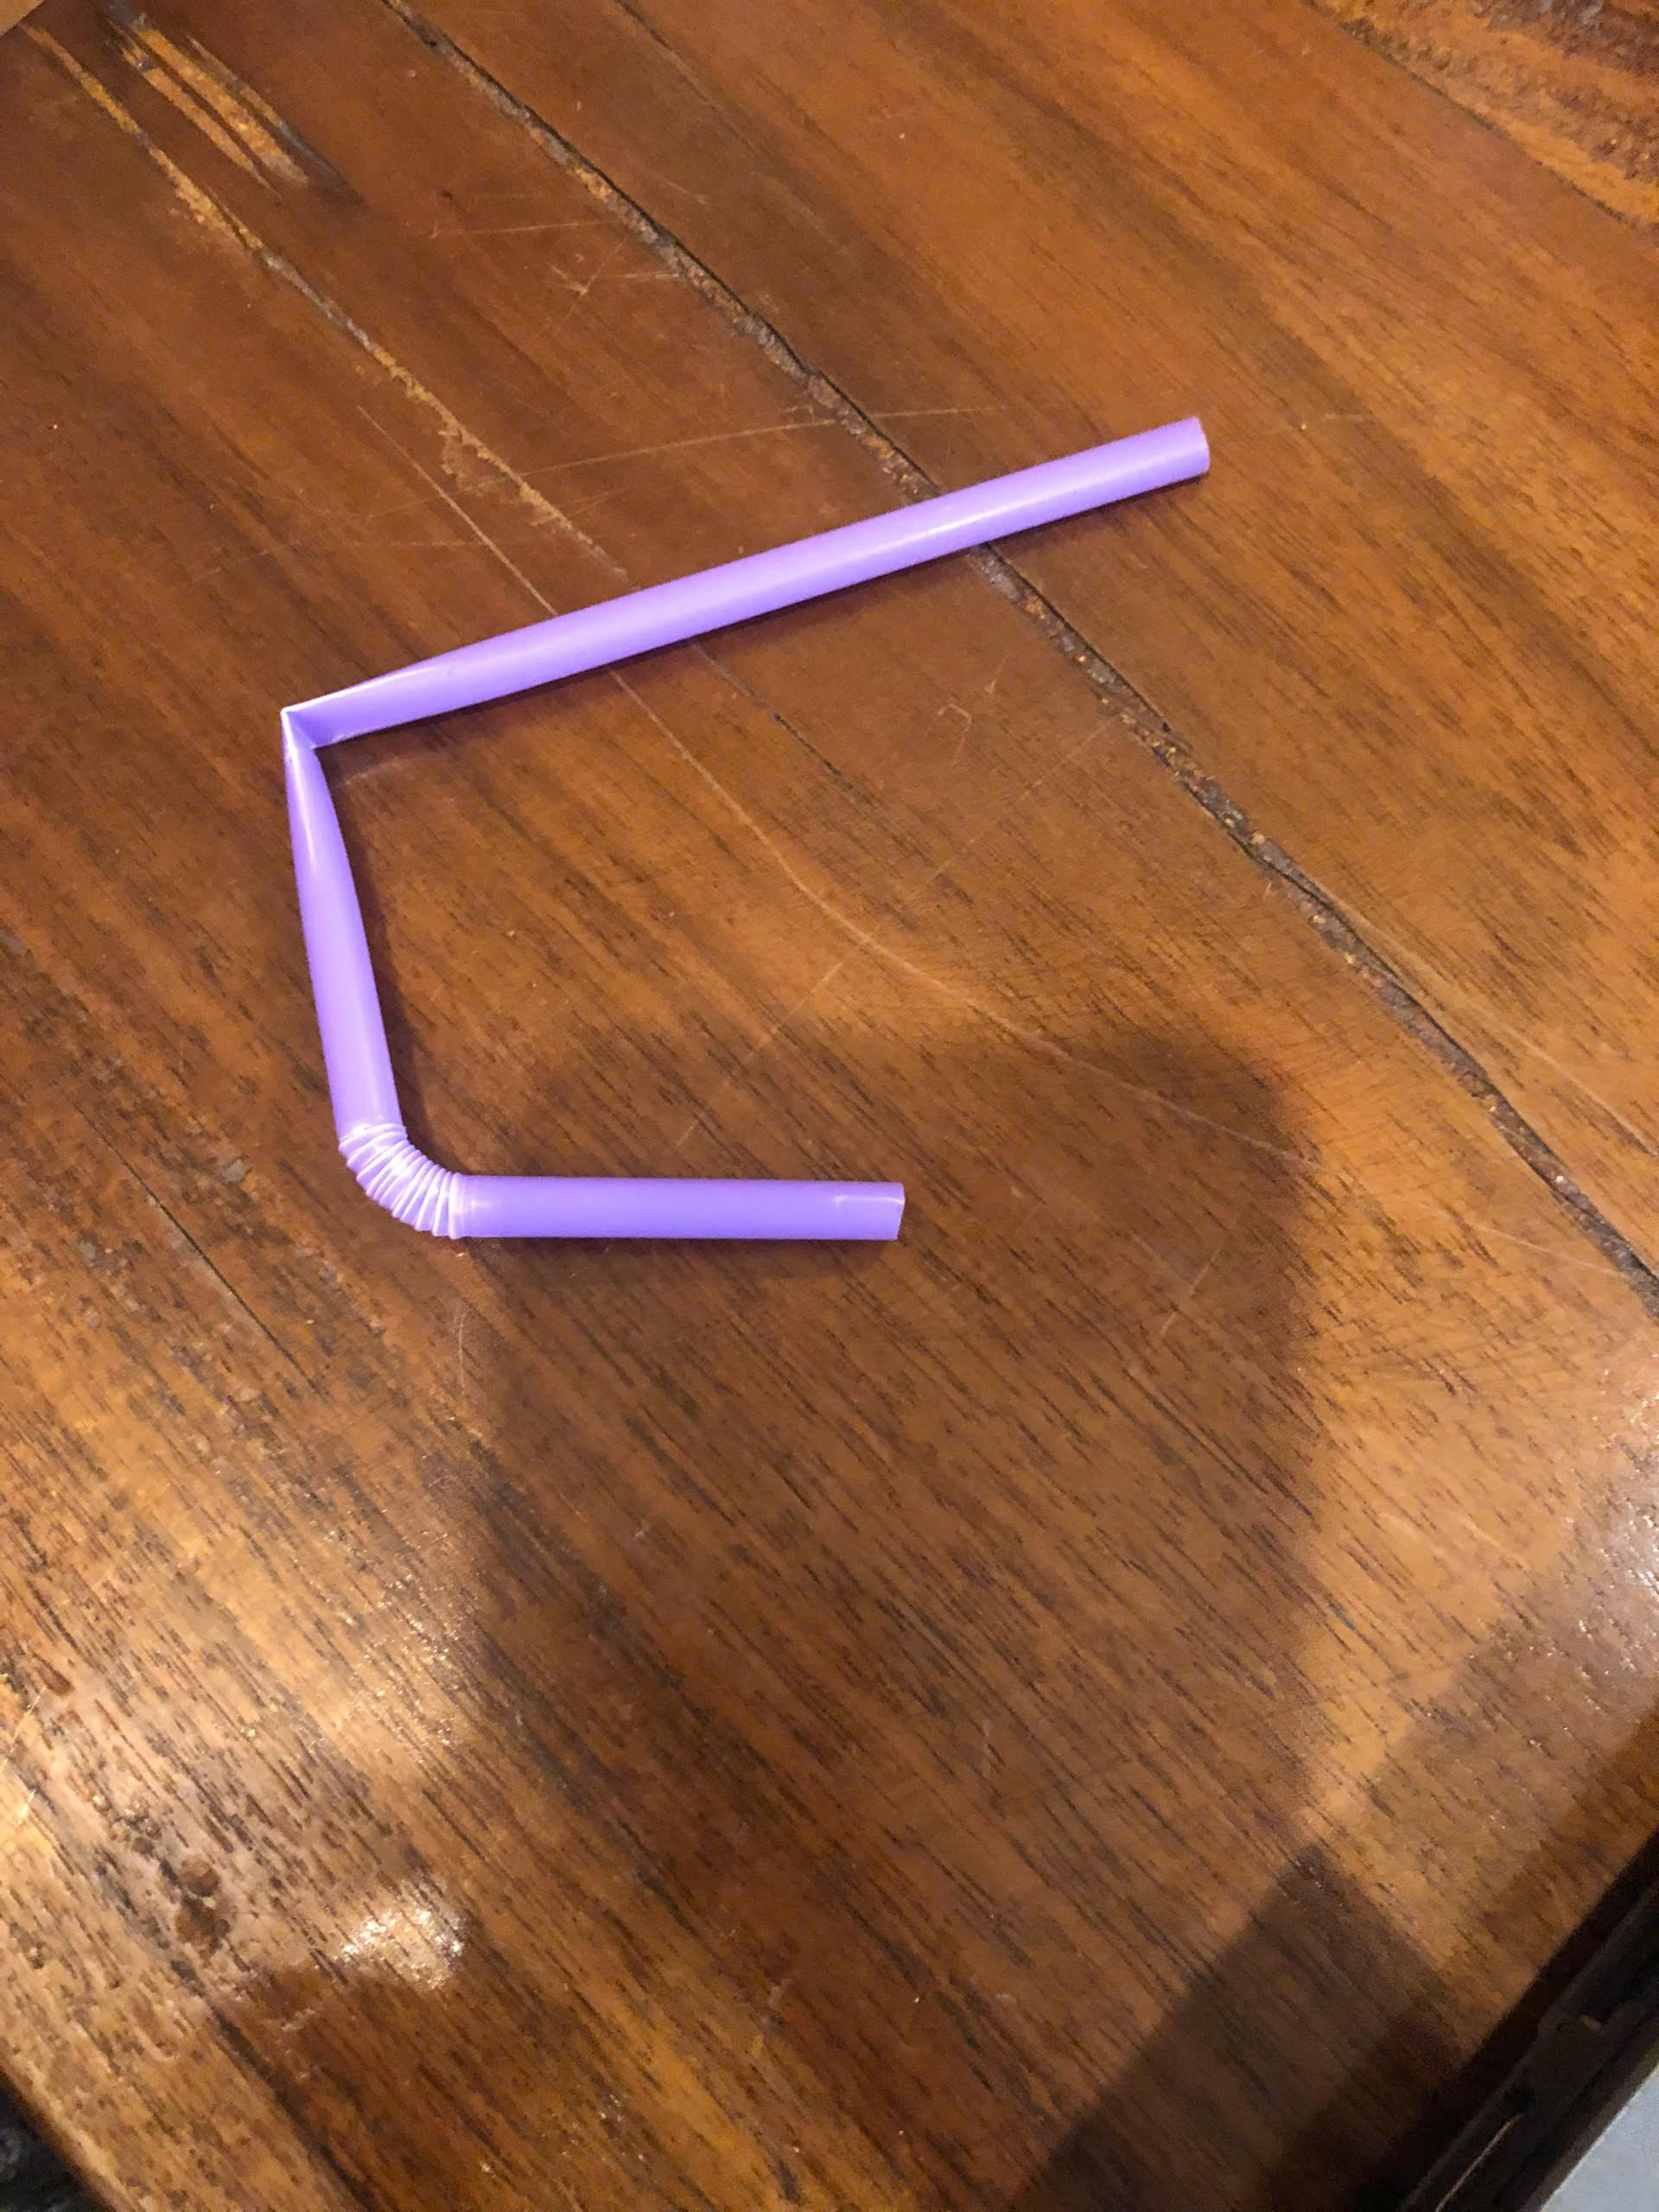Vo co: (272, 425, 1209, 1249)
